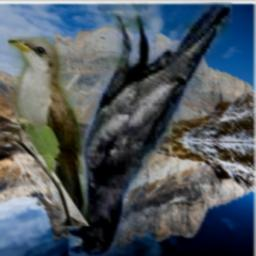Crow: (68, 2, 231, 256)
Cuckoo: (8, 36, 92, 226)
